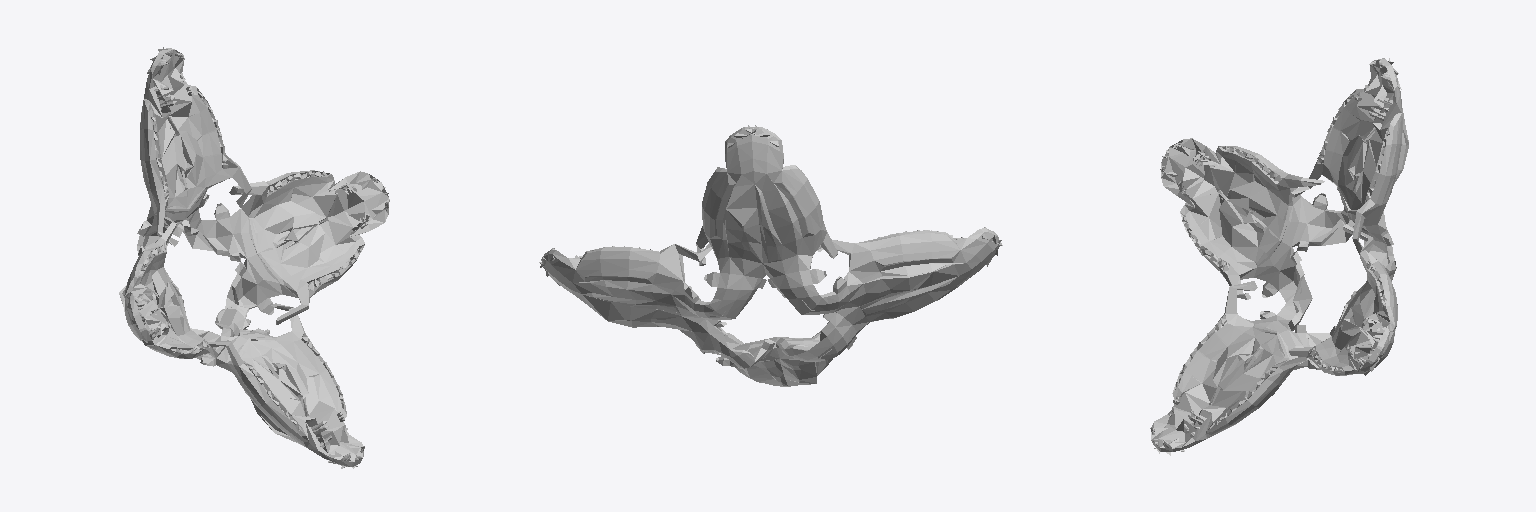
File: desertrose_petals_straight.obj
The picture shows the model from 3 angles: view 1: azimuth 30°, elevation 25°; view 2: azimuth 150°, elevation 25°; view 3: azimuth 270°, elevation 25°; orthographic projection.
Visible parts, largest first — view 1: Mesh.031; view 2: Mesh.031; view 3: Mesh.031.
Part boxes in pixels (bbox=[...]): Mesh.031: bbox=[119, 47, 389, 468]; Mesh.031: bbox=[539, 127, 1002, 386]; Mesh.031: bbox=[1151, 58, 1408, 455].
Bounding box in the file's own units: 16.91 × 15.95 × 10.57.